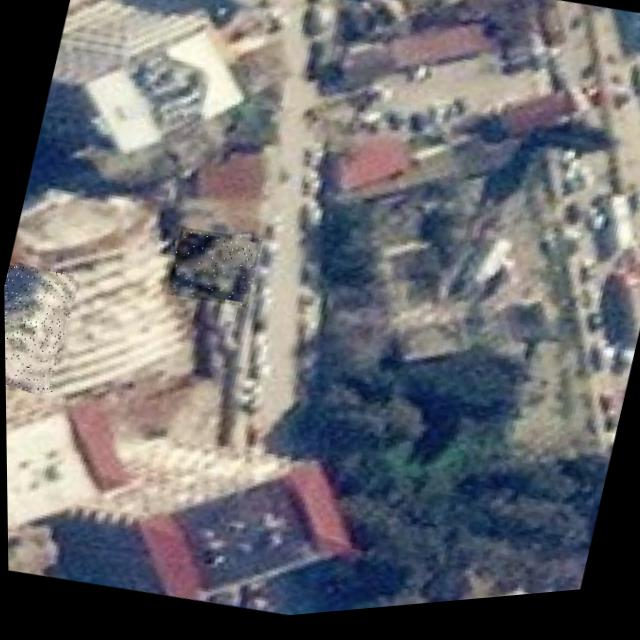Rubble: (3, 257, 78, 398), (163, 224, 261, 317)
